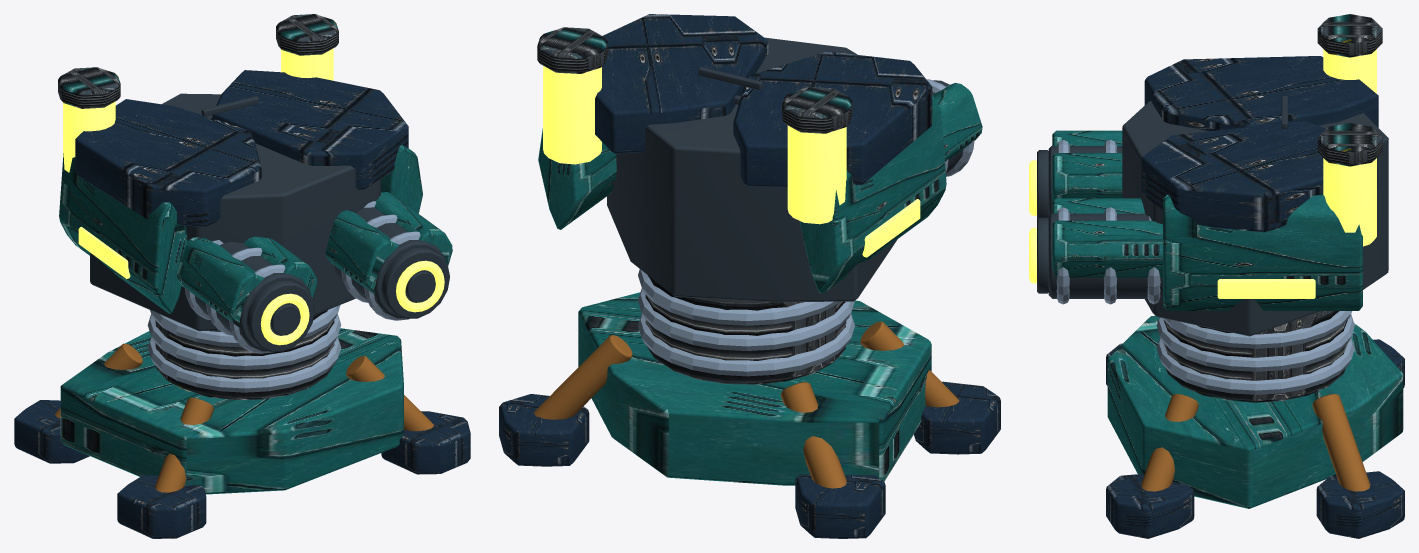
File: turret.glb
3 renders of one model, left to right at view 1: azimuth 30°, elevation 25°; view 2: azimuth 150°, elevation 25°; view 3: azimuth 270°, elevation 25°, orthographic. The views are drawn at different scales.
Parts seen in each view (by area): view 1: Turret hex anchor, Splayed planted foot, Sloped rotating gun mantle, Turntable bearing, Rotating actuator, Anchoring hydraulic, Muzzle lens ring, Biome pressure capsule; view 2: Turret hex anchor, Splayed planted foot, Sloped rotating gun mantle, Rotating actuator, Turntable bearing, Biome pressure capsule, Anchoring hydraulic, Muzzle lens ring; view 3: Turret hex anchor, Splayed planted foot, Sloped rotating gun mantle, Turntable bearing, Rotating actuator, Biome pressure capsule, Anchoring hydraulic, Muzzle lens ring.
Boxes of the visible parts, left/top/right/bottom form: Turret hex anchor: left=59, top=145, right=452, bottom=494; Splayed planted foot: left=14, top=70, right=470, bottom=538; Sloped rotating gun mantle: left=90, top=93, right=449, bottom=351; Turntable bearing: left=147, top=201, right=420, bottom=392; Rotating actuator: left=58, top=14, right=338, bottom=399; Anchoring hydraulic: left=55, top=343, right=434, bottom=492; Muzzle lens ring: left=78, top=226, right=444, bottom=345; Biome pressure capsule: left=63, top=48, right=333, bottom=172; Turret hex anchor: left=538, top=83, right=982, bottom=485; Splayed planted foot: left=499, top=14, right=1000, bottom=538; Sloped rotating gun mantle: left=607, top=37, right=963, bottom=302; Rotating actuator: left=537, top=27, right=852, bottom=384; Turntable bearing: left=638, top=79, right=974, bottom=376; Biome pressure capsule: left=543, top=66, right=846, bottom=224; Anchoring hydraulic: left=534, top=321, right=959, bottom=488; Muzzle lens ring: left=862, top=199, right=920, bottom=257; Turret hex anchor: left=1052, top=130, right=1403, bottom=508; Splayed planted foot: left=1106, top=56, right=1404, bottom=538; Sloped rotating gun mantle: left=1037, top=96, right=1388, bottom=336; Turntable bearing: left=1056, top=139, right=1354, bottom=394; Rotating actuator: left=1163, top=14, right=1382, bottom=402; Biome pressure capsule: left=1323, top=49, right=1376, bottom=246; Anchoring hydraulic: left=1141, top=393, right=1370, bottom=491; Muzzle lens ring: left=1029, top=160, right=1315, bottom=298.
Size of the model in its own units: 1.1 by 1.14 by 1.03.
8 materials, 3 textured.
